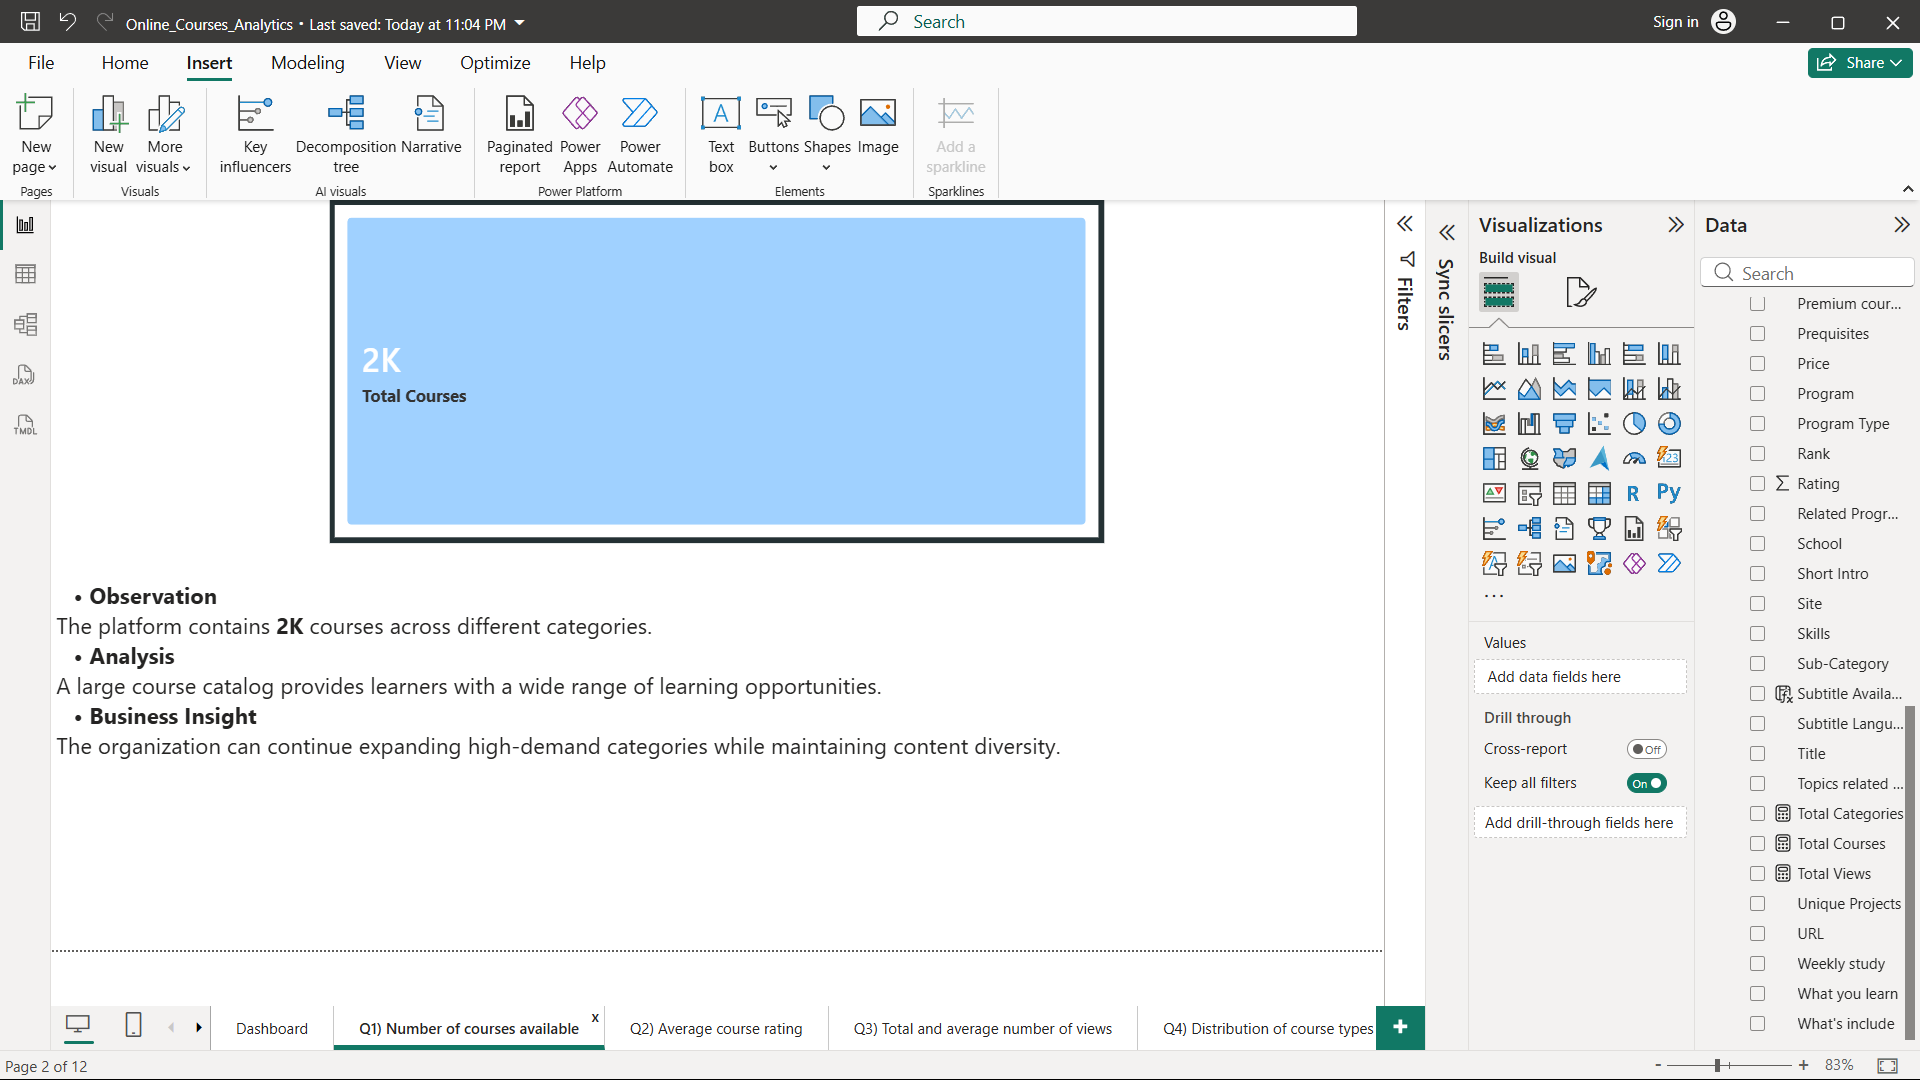

What the dashboard file says about the page in this screenshot:
{"tool":"powerbi","page":{"name":"Q1) Number of courses available","canvas":[1280,720],"ordinal":1},"visuals":[{"type":"cardVisual","fields":{"Data":["Online_Courses.Total Courses"]},"box":[267.6,0,743.7,329.3],"z":0},{"type":"textbox","box":[0,360,1061.4,214.3],"z":1000}]}

Visuals, with their boxes on the page's 1280x720 design canvas (x1, y1, x2, y2). These are canvas units, not pixel positions in the 1920x1080 screenshot, which may show the page scaled, cropped or inside an application window:
cardVisual - Online_Courses.Total Courses: region(268, 0, 1011, 329)
textbox: region(0, 360, 1061, 574)
